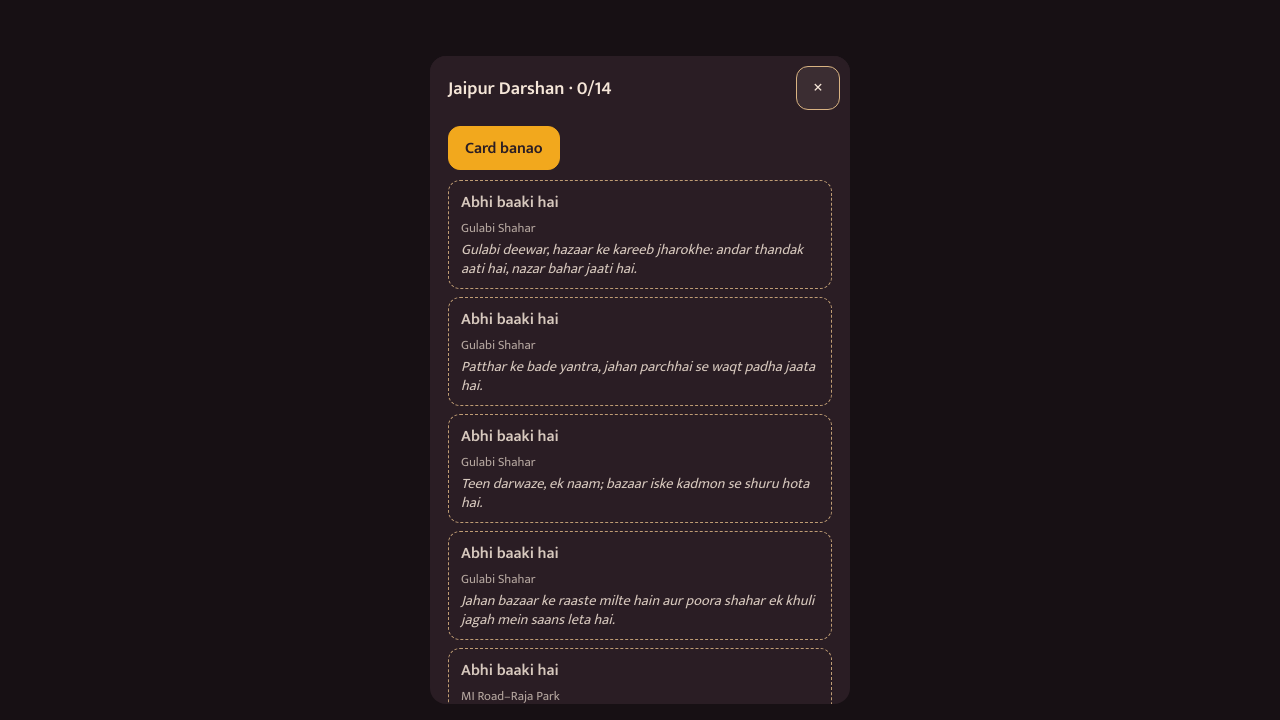
Test: a share sheet refused for a late tap keeps the card, and "Share karo" offers it to a fresh tap
Click the button with class "darshan-card-make" at {"x": 504, "y": 148}, box [448,126,560,170]
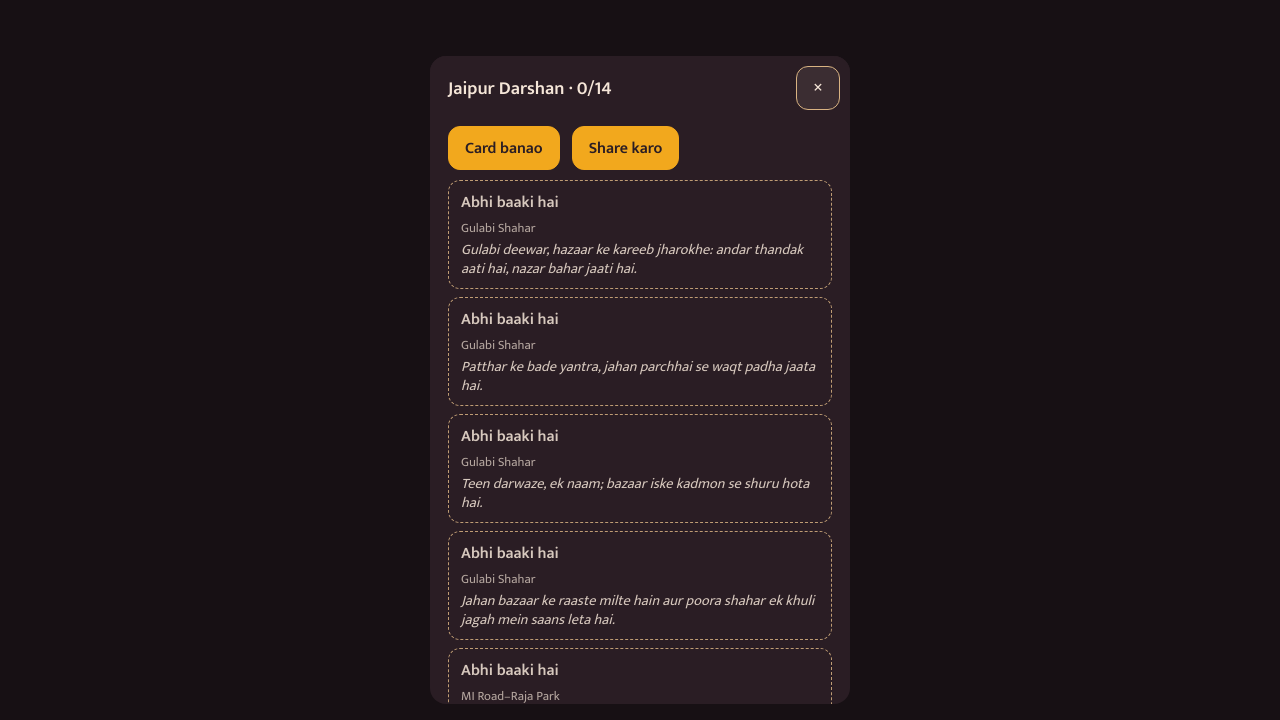
Result: the button with class "darshan-card-share" reads "Share karo"
Click the button with class "darshan-card-share" at {"x": 625, "y": 148}, box [572,126,679,170]
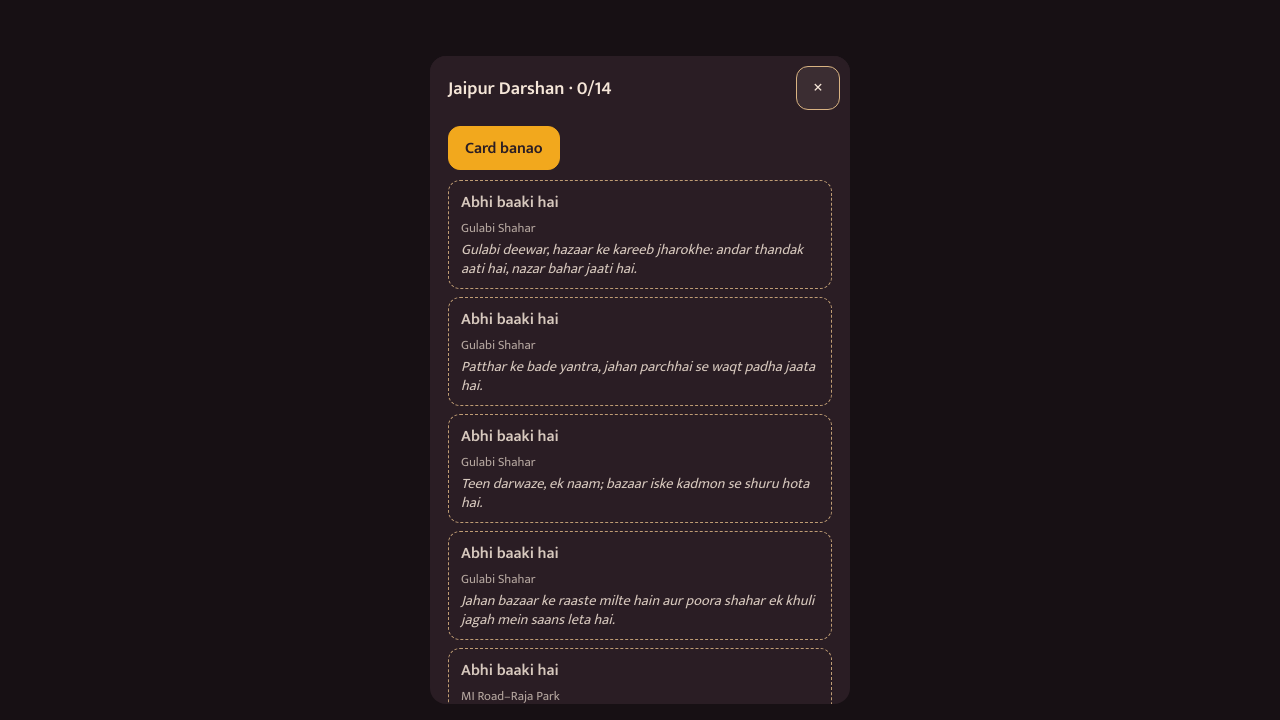
Result: the button with class "darshan-card-share" is gone
